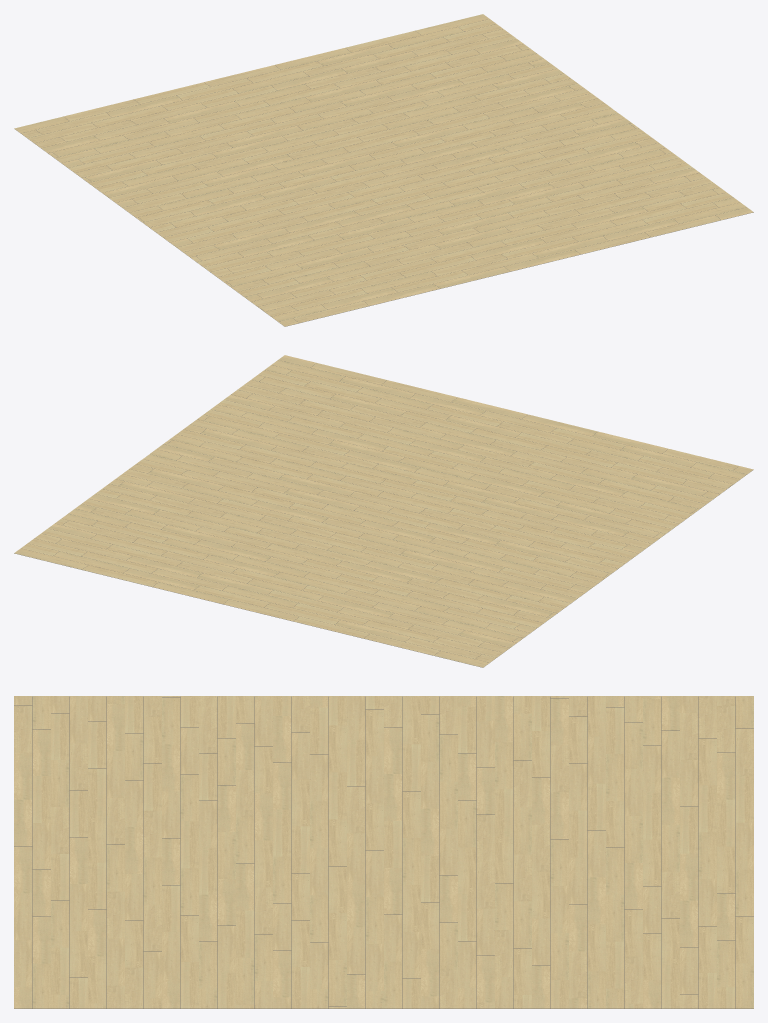
Rendered from wood-beige-20x120.glb.
3 views of the same model, one above another, from view 1: azimuth 30°, elevation 25°; view 2: azimuth 150°, elevation 25°; view 3: azimuth 270°, elevation 25° (orthographic). The views are drawn at different scales.
Visible parts, largest first — view 1: Wood Beige; view 2: Wood Beige; view 3: Wood Beige.
Part boxes in pixels (x1=…): Wood Beige: x1=14, y1=14, x2=753, y2=326; Wood Beige: x1=14, y1=355, x2=753, y2=667; Wood Beige: x1=14, y1=696, x2=753, y2=1008.
Size of the model in its own units: 8 by 0.003 by 8.
Materials: 2 (1 with a texture image).
